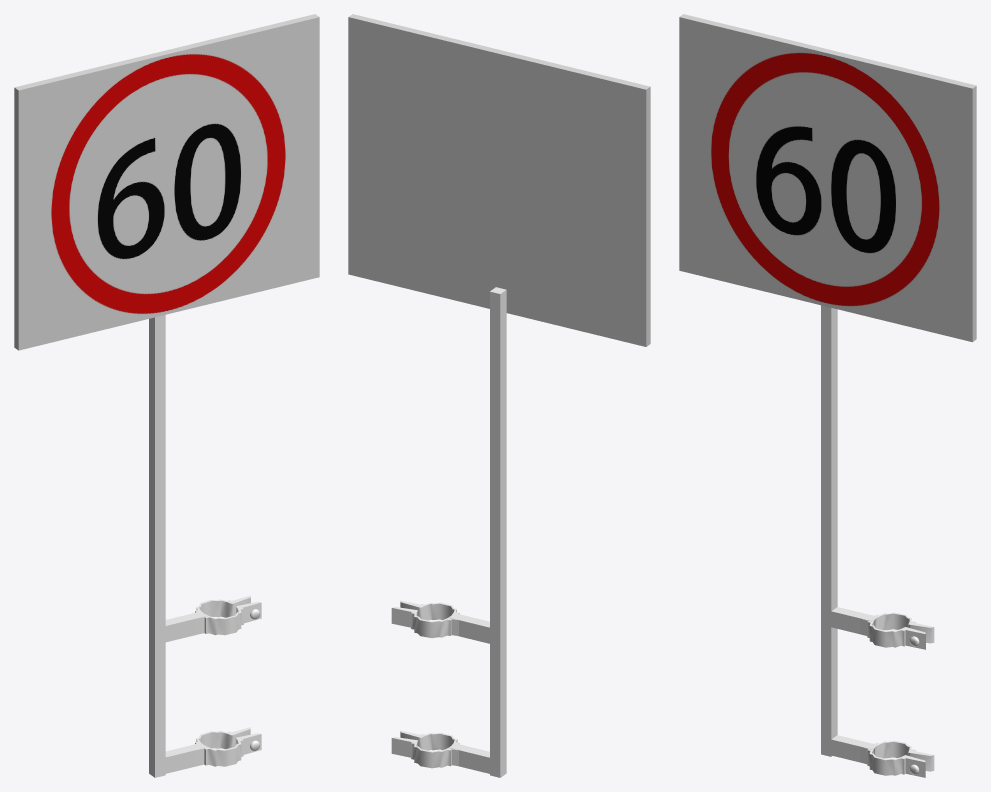
The picture shows the model from 3 angles, left to right: view 1: azimuth 30°, elevation 25°; view 2: azimuth 150°, elevation 25°; view 3: azimuth 330°, elevation 25°; orthographic projection. The views are drawn at different scales.
Parts seen in each view (by area): view 1: 立方体.1-材质.4, 立方体, 立方体.1-材质.2, pCube31, pCube20, 立方体.1, 立方体.2; view 2: 立方体.1-材质.2, 立方体, pCube20, pCube31, 立方体.2, 立方体.1; view 3: 立方体.1-材质.4, 立方体, 立方体.1-材质.2, pCube31, pCube20, 立方体.2, 立方体.1.
Part boxes in pixels (x1,y1,x2,y2): 立方体.1-材质.4: (18, 17, 319, 350); 立方体: (149, 315, 165, 777); 立方体.1-材质.2: (14, 14, 318, 350); pCube31: (194, 595, 261, 635); pCube20: (194, 727, 261, 766); 立方体.1: (165, 611, 206, 642); 立方体.2: (165, 743, 206, 773); 立方体.1-材质.2: (348, 14, 650, 346); 立方体: (490, 287, 506, 777); pCube20: (391, 730, 459, 768); pCube31: (391, 600, 459, 638); 立方体.2: (449, 743, 491, 774); 立方体.1: (449, 613, 491, 644); 立方体.1-材质.4: (679, 17, 972, 342); 立方体: (821, 305, 837, 756); 立方体.1-材质.2: (679, 14, 976, 341); pCube31: (860, 612, 934, 649); pCube20: (860, 740, 934, 777); 立方体.2: (831, 735, 877, 762); 立方体.1: (831, 607, 877, 634).
Bounding box in the file's own units: 7.01 × 16.13 × 0.9508.
4 materials, 1 textured.
